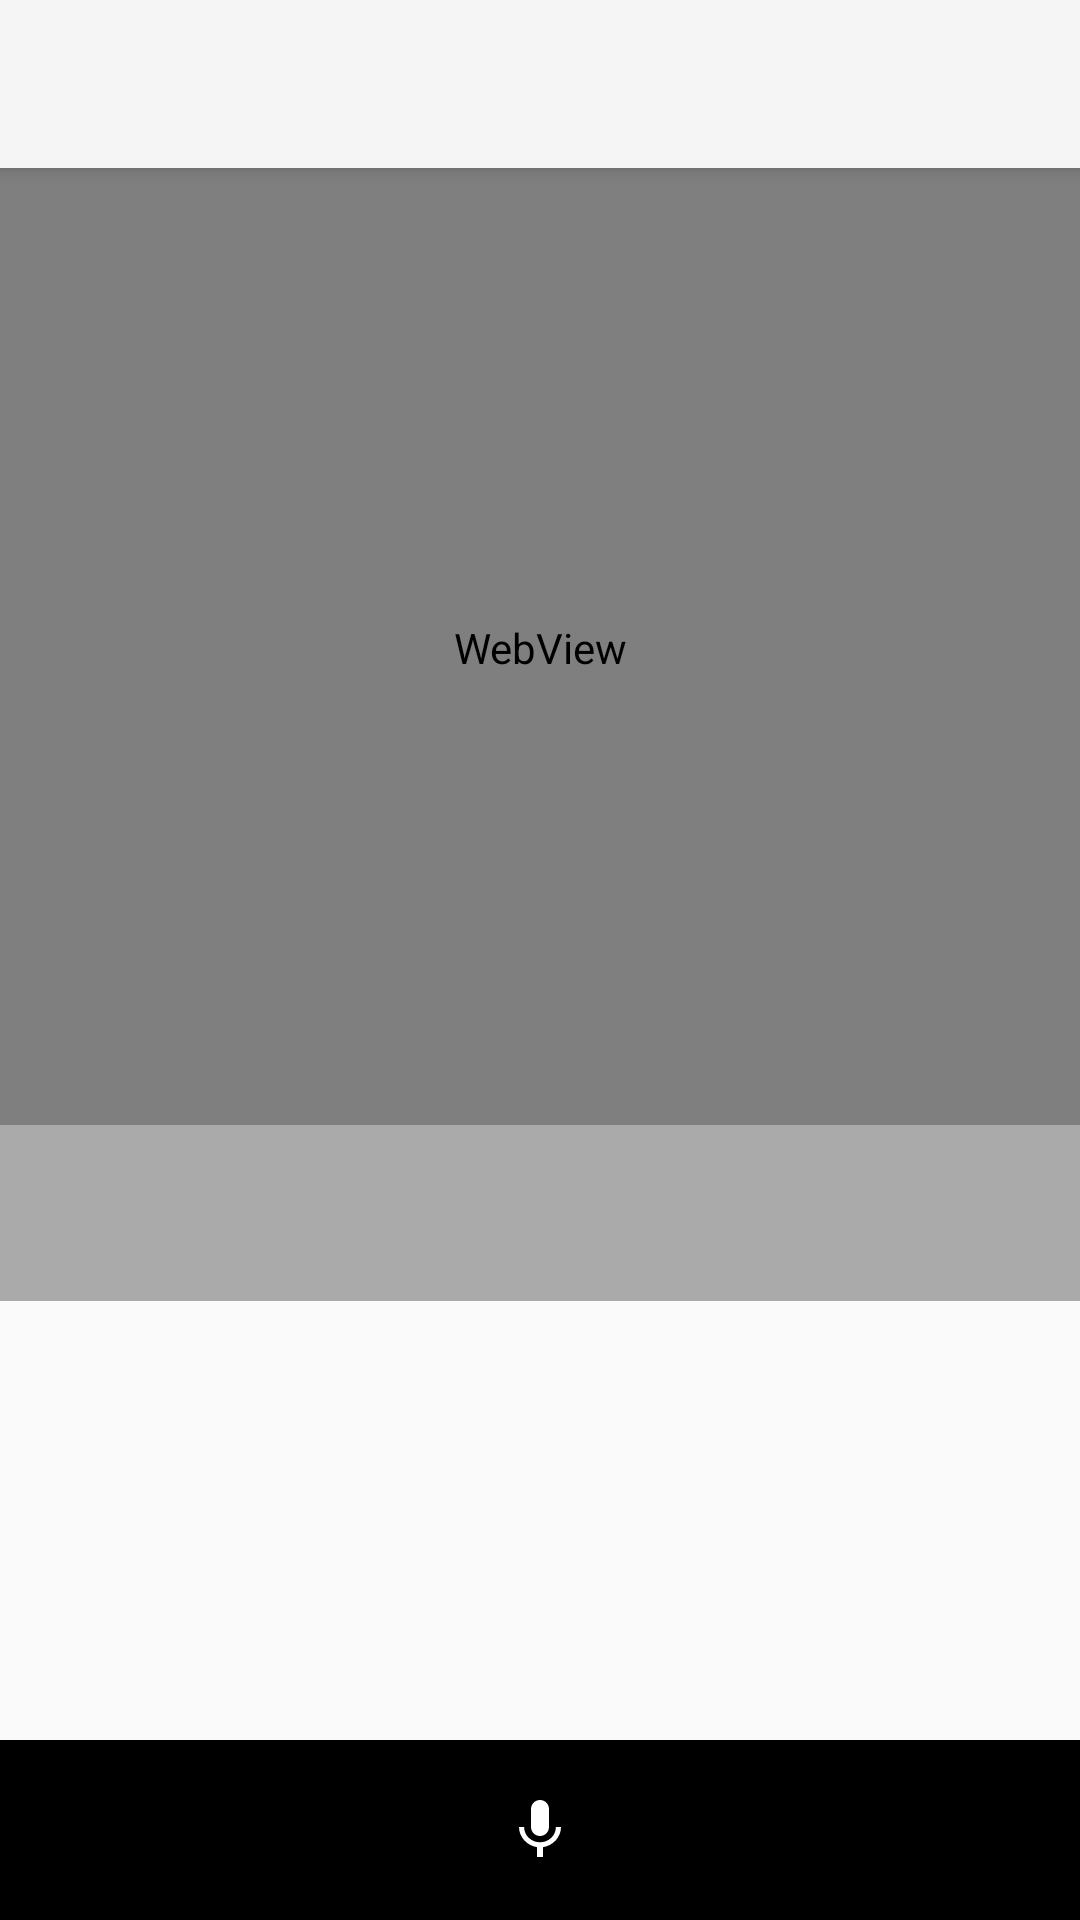

Icon bounding boxes for this 1080x1920 phone screenshot, format (left=x1, top=y1, right=x2, bottom=y2):
Record Audio: (left=519, top=1800, right=561, bottom=1857)
